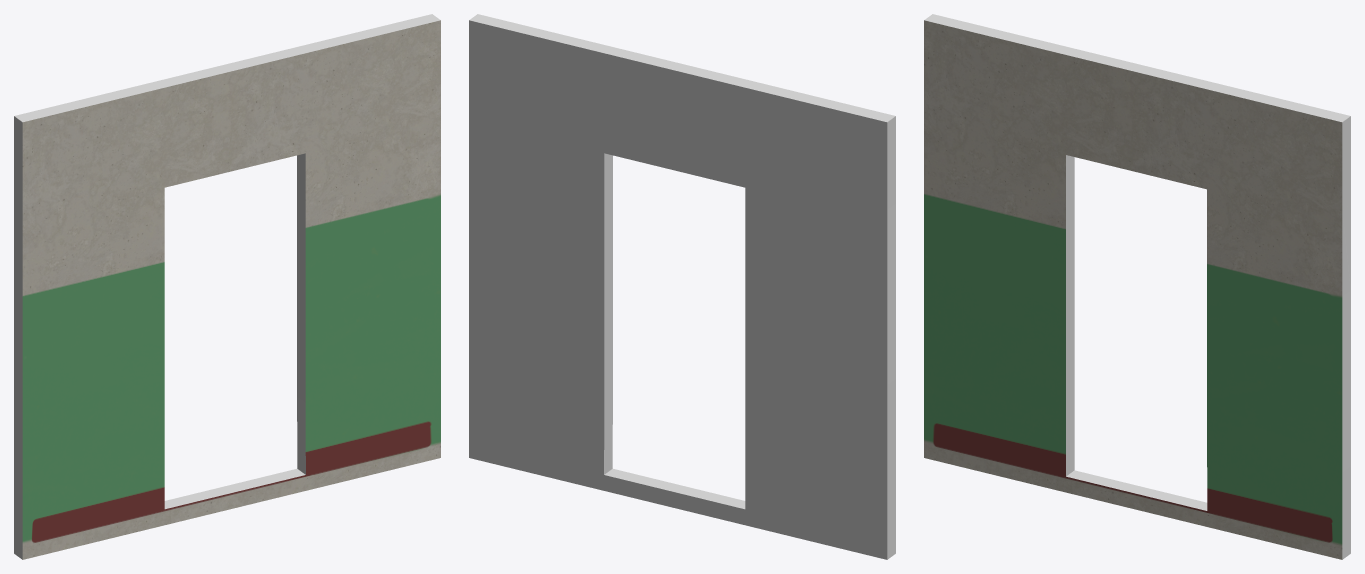
File: SM_Wall_Thin_Enterance_Doorway_280cm_01.FBX
3 renders of one model, left to right at view 1: azimuth 30°, elevation 25°; view 2: azimuth 150°, elevation 25°; view 3: azimuth 330°, elevation 25°, orthographic.
Parts seen in each view (by area): view 1: Plane.196; view 2: Plane.196; view 3: Plane.196.
Boxes of the visible parts, bbox=[...] form: Plane.196: bbox=[14, 14, 440, 559]; Plane.196: bbox=[469, 14, 895, 559]; Plane.196: bbox=[924, 14, 1350, 559].
Size of the model in its own units: 280 by 280 by 10.
